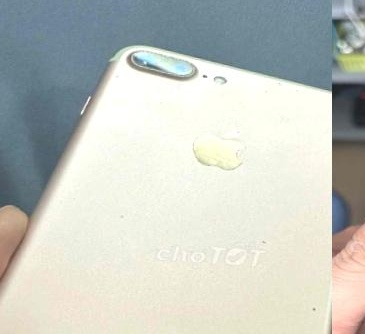scratch: (111, 45, 201, 87), (247, 75, 301, 99), (97, 202, 132, 224), (311, 198, 332, 222), (253, 236, 276, 249), (309, 303, 325, 315)
